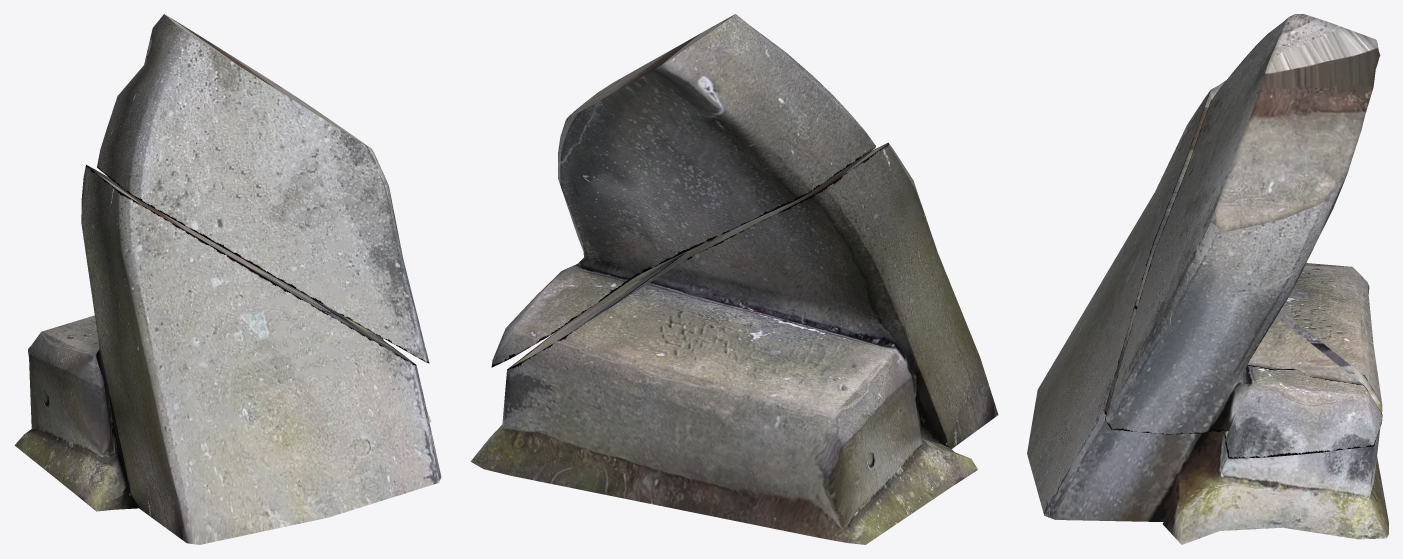
The model's file is own-headstone-cracked.glb.
3 views of the same model, side by side, from view 1: azimuth 30°, elevation 25°; view 2: azimuth 150°, elevation 25°; view 3: azimuth 270°, elevation 25° (orthographic). The views are drawn at different scales.
Visible parts, largest first — view 1: defaultMaterial; view 2: defaultMaterial; view 3: defaultMaterial.
Boxes of the visible parts, box(x1,y1,x2,y2) form: defaultMaterial: box(14, 14, 441, 544); defaultMaterial: box(470, 14, 998, 544); defaultMaterial: box(1027, 14, 1388, 544).
Bounding box in the file's own units: 59.07 × 66.02 × 50.27.
1 material, 1 textured.
